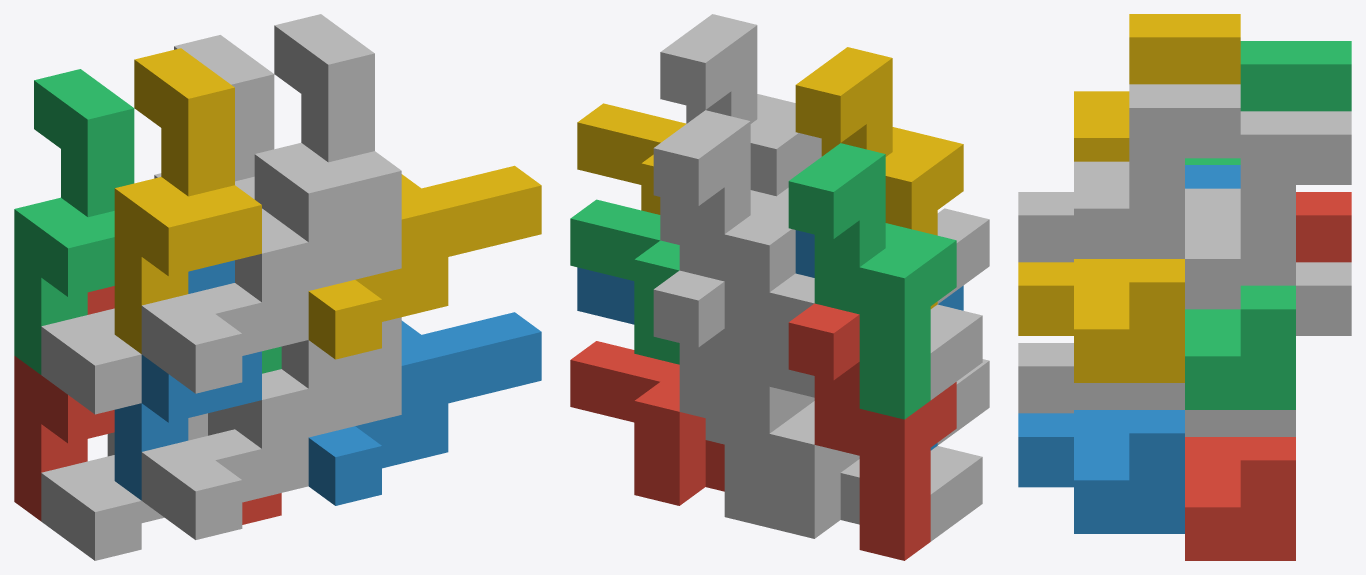
Rendered from tiling.obj.
3 views of the same model, side by side, from view 1: azimuth 30°, elevation 25°; view 2: azimuth 150°, elevation 25°; view 3: azimuth 270°, elevation 25° (orthographic). The views are drawn at different scales.
Visible parts, largest first — view 1: copy_1_domain_4, copy_1_domain_3, copy_1_domain_8, copy_2_domain_2, copy_2_domain_4, copy_2_domain_8, copy_2_domain_6, copy_1_domain_2, copy_1_domain_1, copy_2_domain_1, copy_2_domain_3, copy_1_domain_7 (+2 smaller); view 2: copy_1_domain_3, copy_1_domain_7, copy_1_domain_1, copy_1_domain_5, copy_1_domain_4, copy_2_domain_5, copy_1_domain_8, copy_2_domain_1, copy_2_domain_7, copy_2_domain_3, copy_2_domain_8, copy_2_domain_4 (+4 smaller); view 3: copy_1_domain_8, copy_2_domain_6, copy_2_domain_8, copy_1_domain_7, copy_2_domain_5, copy_2_domain_7, copy_1_domain_4, copy_1_domain_3, copy_1_domain_6, copy_1_domain_5, copy_1_domain_1, copy_2_domain_2 (+2 smaller).
Boxes of the visible parts, x1,y1,x2,y2 form: copy_1_domain_4: (114, 48, 261, 353); copy_1_domain_3: (14, 69, 134, 374); copy_1_domain_8: (254, 14, 401, 242); copy_2_domain_2: (141, 366, 401, 539); copy_2_domain_4: (141, 208, 401, 393); copy_2_domain_8: (308, 165, 541, 359); copy_2_domain_6: (308, 312, 541, 505); copy_1_domain_2: (114, 260, 261, 500); copy_1_domain_1: (14, 286, 114, 521); copy_2_domain_1: (41, 413, 207, 560); copy_2_domain_3: (41, 308, 141, 414); copy_1_domain_7: (154, 35, 274, 199); copy_1_domain_3: (788, 143, 956, 419); copy_1_domain_7: (653, 110, 795, 386); copy_1_domain_1: (788, 303, 956, 560); copy_1_domain_5: (653, 270, 814, 527); copy_1_domain_4: (795, 47, 963, 308); copy_2_domain_5: (570, 341, 724, 505); copy_1_domain_8: (660, 14, 821, 196); copy_2_domain_1: (705, 401, 982, 541); copy_2_domain_7: (570, 199, 679, 364); copy_2_domain_3: (769, 273, 982, 399); copy_2_domain_8: (577, 103, 685, 214); copy_2_domain_4: (777, 187, 989, 303); copy_1_domain_8: (1074, 84, 1240, 258); copy_2_domain_6: (1018, 410, 1184, 533); copy_2_domain_8: (1018, 259, 1184, 382); copy_1_domain_7: (1185, 111, 1351, 285); copy_2_domain_5: (1185, 437, 1295, 560); copy_2_domain_7: (1185, 285, 1295, 409); copy_1_domain_4: (1074, 14, 1240, 161); copy_1_domain_3: (1185, 41, 1351, 164); copy_1_domain_6: (1074, 235, 1240, 409); copy_1_domain_5: (1185, 262, 1351, 436); copy_1_domain_1: (1296, 192, 1351, 262); copy_2_domain_2: (1018, 343, 1073, 413).
Bounding box in the file's own units: 9 × 9 × 6.
